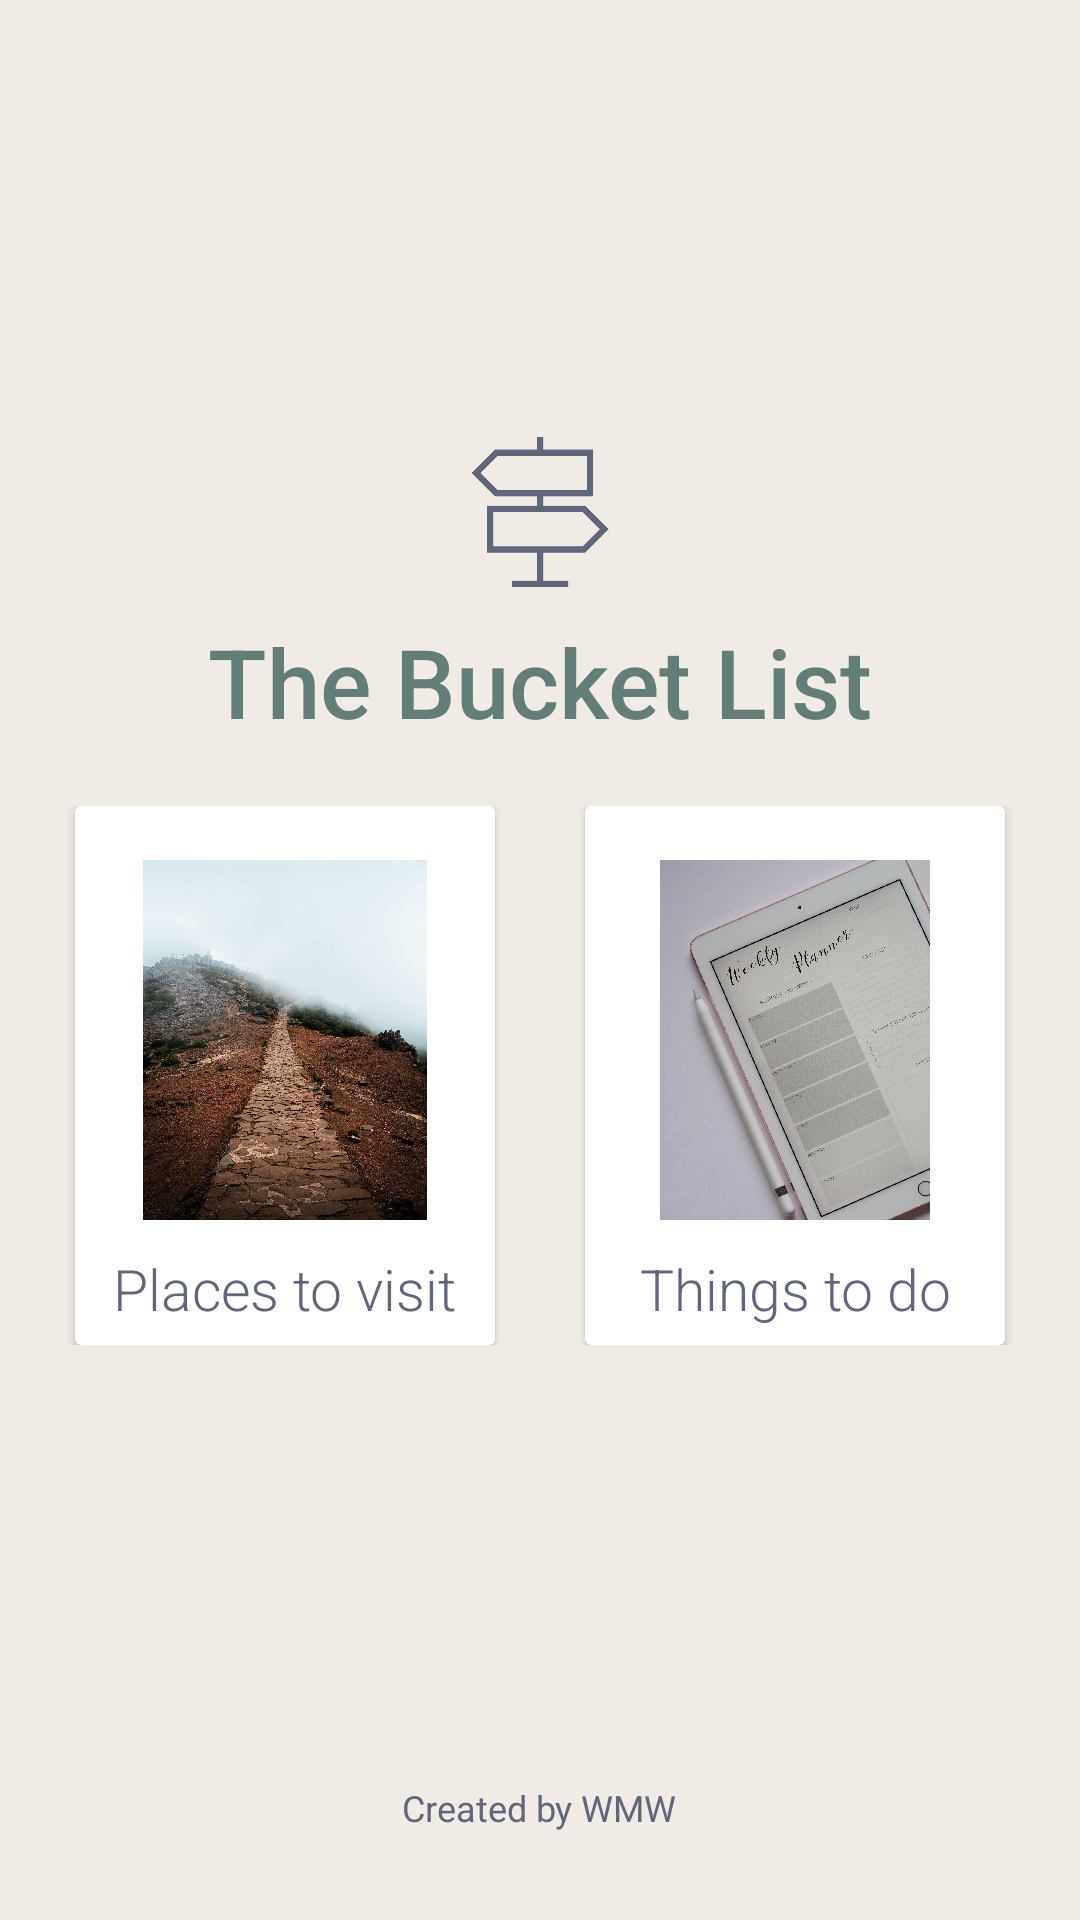

Icons on this 1080*1920 Android screen, each with the point to tap as (x,y):
planner: (795,1040)
road: (285,1040)
sign: (540,512)
